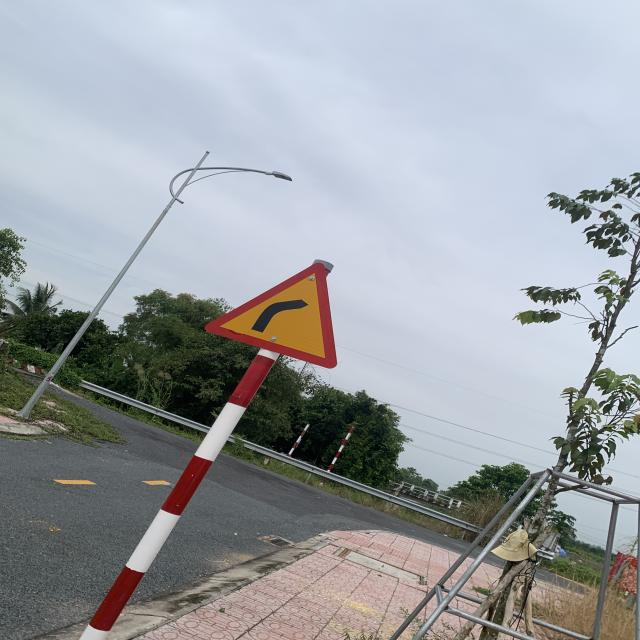Duong_Nguoi_Di_Bo_Cat_Ngang: (205, 262, 338, 368)
